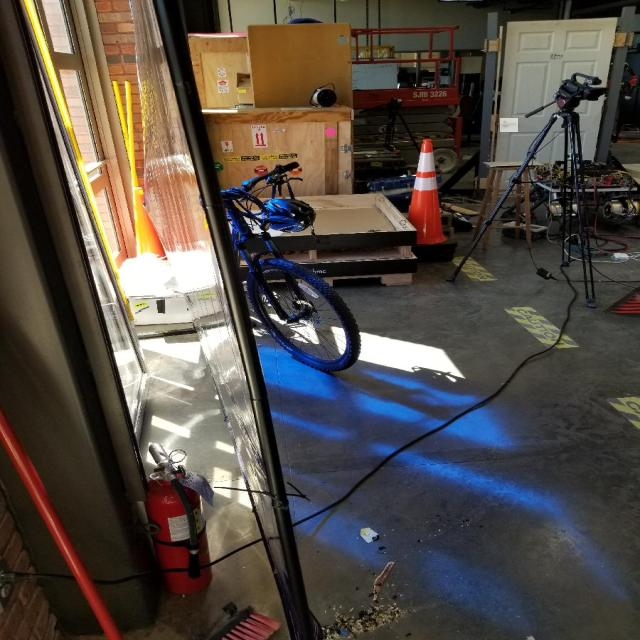doorhandle: (500, 118, 518, 132)
